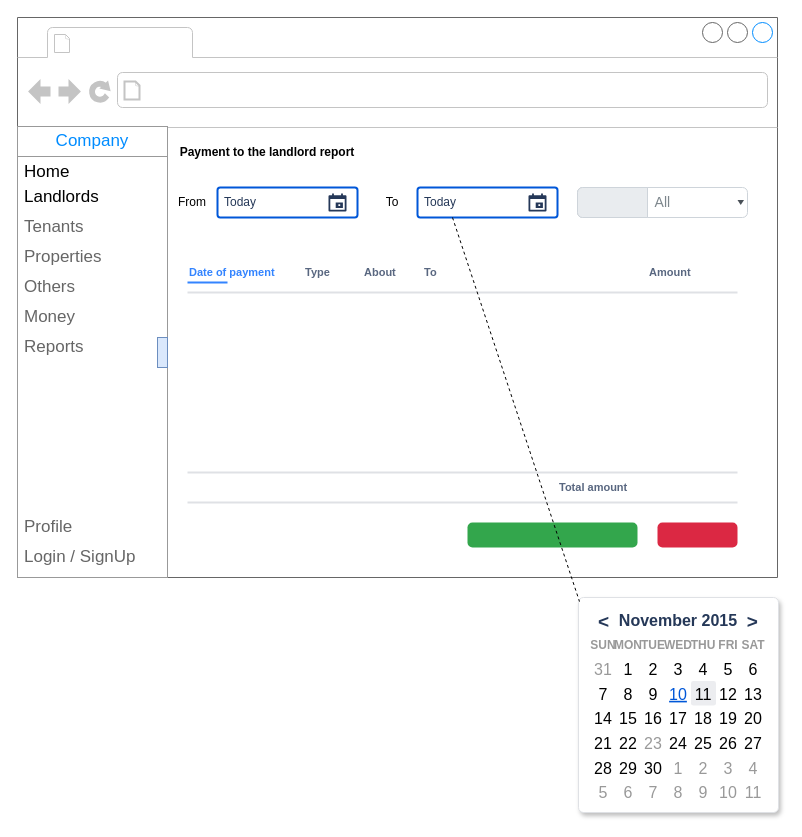
The diagram is 802 pixels wide and 837 high, and some of its shapes have lost their labels. Here are the shapes that lost their labels. From the top down, the centre of each, then its label:
pixel 132 42: Estate
pixel 272 90: https://www.Estate.io
pixel 612 202: Landlord
pixel 552 534: Print
pixel 697 534: Cancel
